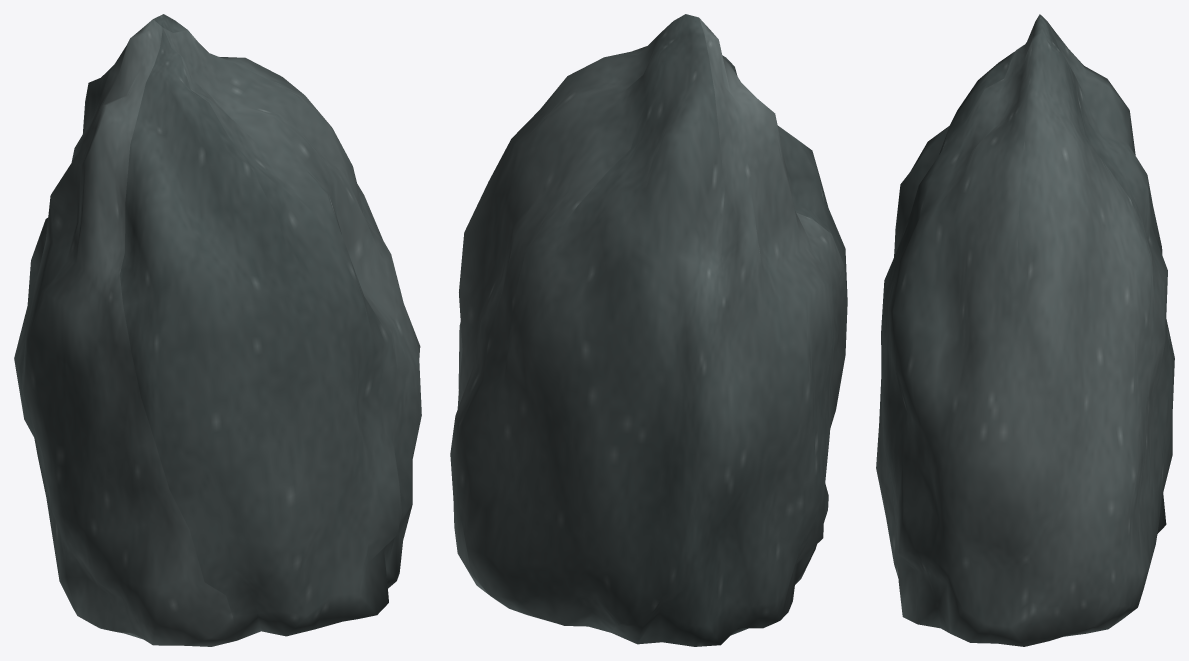
The model's file is NaturalRock_07_LeaningShard.fbx.
3 renders of one model, left to right at view 1: azimuth 30°, elevation 25°; view 2: azimuth 150°, elevation 25°; view 3: azimuth 270°, elevation 25°, orthographic. The views are drawn at different scales.
Visible parts, largest first — view 1: Rock_Main.006; view 2: Rock_Main.006; view 3: Rock_Main.006.
Part boxes in pixels (x1,y1,x2,y2): Rock_Main.006: [14, 14, 421, 646]; Rock_Main.006: [450, 14, 847, 646]; Rock_Main.006: [876, 14, 1174, 646].
Size of the model in its own units: 1.57 by 2.53 by 1.25.
1 material, 1 textured.
